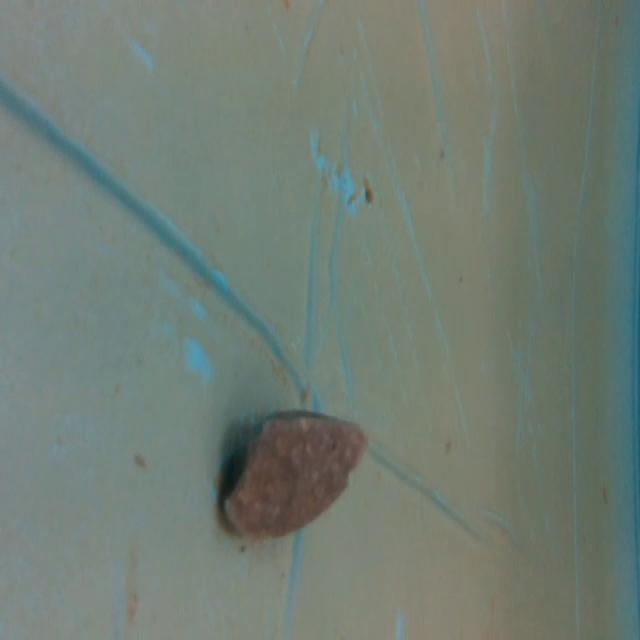rock: (213, 403, 375, 545)
